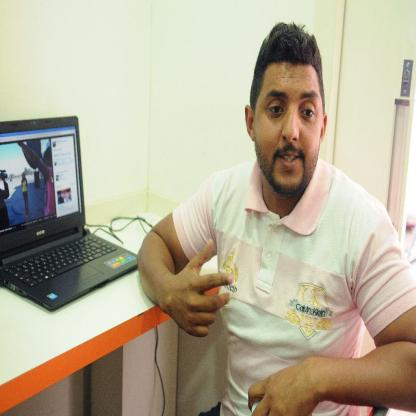board: (0, 107, 124, 318)
